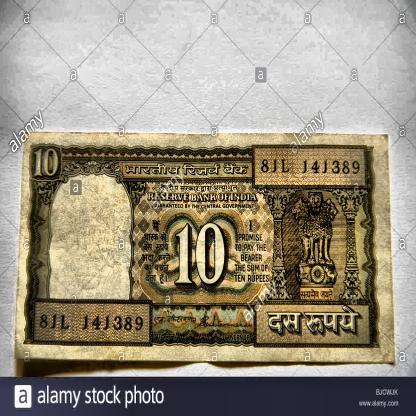Rs10: (171, 214, 232, 298), (27, 141, 67, 187)
